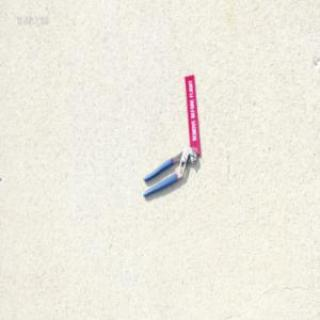LuggageTagtrack_idkeyframe: (180, 68, 200, 155)
Pliertrack_idkeyframe: (141, 144, 197, 197)
